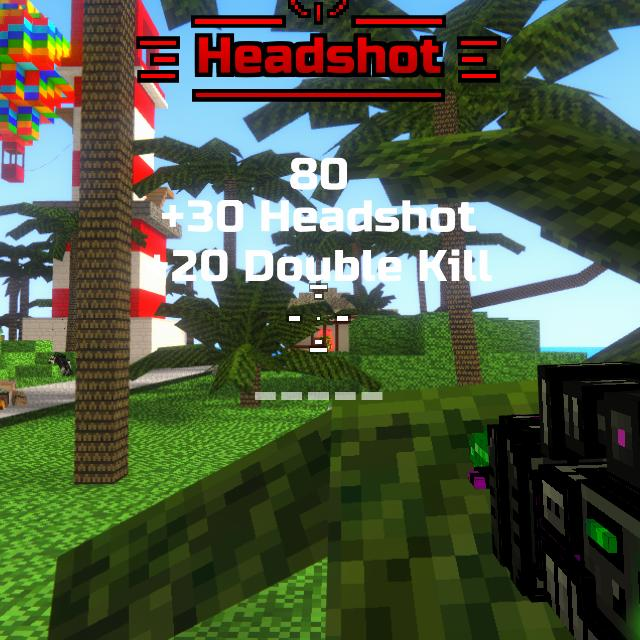Enemy: (321, 336, 332, 352)
